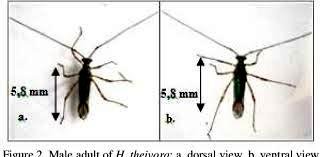Helopeltis-insect: (74, 55, 93, 123), (232, 52, 246, 121)
